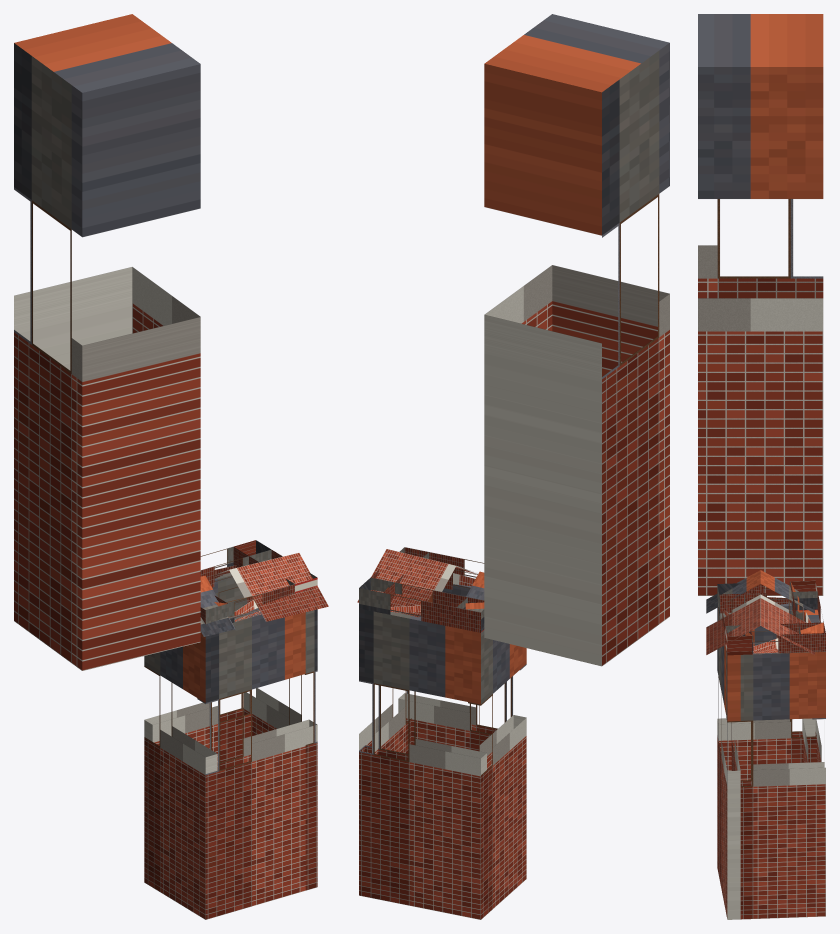
3 views of the same model, side by side, from view 1: azimuth 30°, elevation 25°; view 2: azimuth 150°, elevation 25°; view 3: azimuth 270°, elevation 25° (orthographic). The views are drawn at different scales.
Visible parts, largest first — view 1: 534916377__chimney_0_xb, 534916377__wall_0_xb, 534916377__wall_3_xb, 534916377_roof_-1_xb, 534916377__wall_1_xb, 534916377__wall_2_xb, 534916377__cornice_0, 534916377__cornice_2, 534916377__cornice_1; view 2: 534916377__chimney_0_xb, 534916377__wall_2_xb, 534916377__wall_3_xb, 534916377__wall_0_xb, 534916377_roof_1_xb, 534916377__cornice_2, 534916377__wall_1_xb, 534916377__cornice_0; view 3: 534916377__chimney_0_xb, 534916377__wall_1_xb, 534916377__wall_0_xb, 534916377__wall_3_xb, 534916377_roof_-1_xb, 534916377__cornice_1, 534916377_roof_1_xb, 534916377__cornice_3, 534916377__cornice_0, 534916377__wall_2_xb, 534916377__cornice_2.
Boxes of the visible parts, <box> form: 534916377__chimney_0_xb: <box>14,14,200,670</box>; 534916377__wall_0_xb: <box>197,608,317,919</box>; 534916377__wall_3_xb: <box>144,631,217,919</box>; 534916377_roof_-1_xb: <box>200,552,328,636</box>; 534916377__wall_1_xb: <box>244,609,317,890</box>; 534916377__wall_2_xb: <box>144,572,252,762</box>; 534916377__cornice_0: <box>205,584,294,623</box>; 534916377__cornice_2: <box>200,540,271,587</box>; 534916377__cornice_1: <box>233,540,317,593</box>; 534916377__chimney_0_xb: <box>484,14,669,666</box>; 534916377__wall_2_xb: <box>359,608,486,919</box>; 534916377__wall_3_xb: <box>468,630,526,919</box>; 534916377__wall_0_xb: <box>398,584,526,751</box>; 534916377_roof_1_xb: <box>357,549,484,630</box>; 534916377__cornice_2: <box>359,577,484,632</box>; 534916377__wall_1_xb: <box>359,688,411,754</box>; 534916377__cornice_0: <box>404,547,484,589</box>; 534916377__chimney_0_xb: <box>698,14,823,595</box>; 534916377__wall_1_xb: <box>726,651,825,919</box>; 534916377__wall_0_xb: <box>717,608,740,919</box>; 534916377__wall_3_xb: <box>717,603,816,780</box>; 534916377_roof_-1_xb: <box>706,570,760,654</box>; 534916377__cornice_1: <box>725,622,825,654</box>; 534916377_roof_1_xb: <box>760,570,814,654</box>; 534916377__cornice_3: <box>719,581,817,613</box>; 534916377__cornice_0: <box>717,583,752,655</box>; 534916377__wall_2_xb: <box>802,610,825,762</box>; 534916377__cornice_2: <box>790,580,823,633</box>.
Size of the model in its own units: 0.3181 by 1.05 by 0.1531.
Materials: 1 (1 with a texture image).
